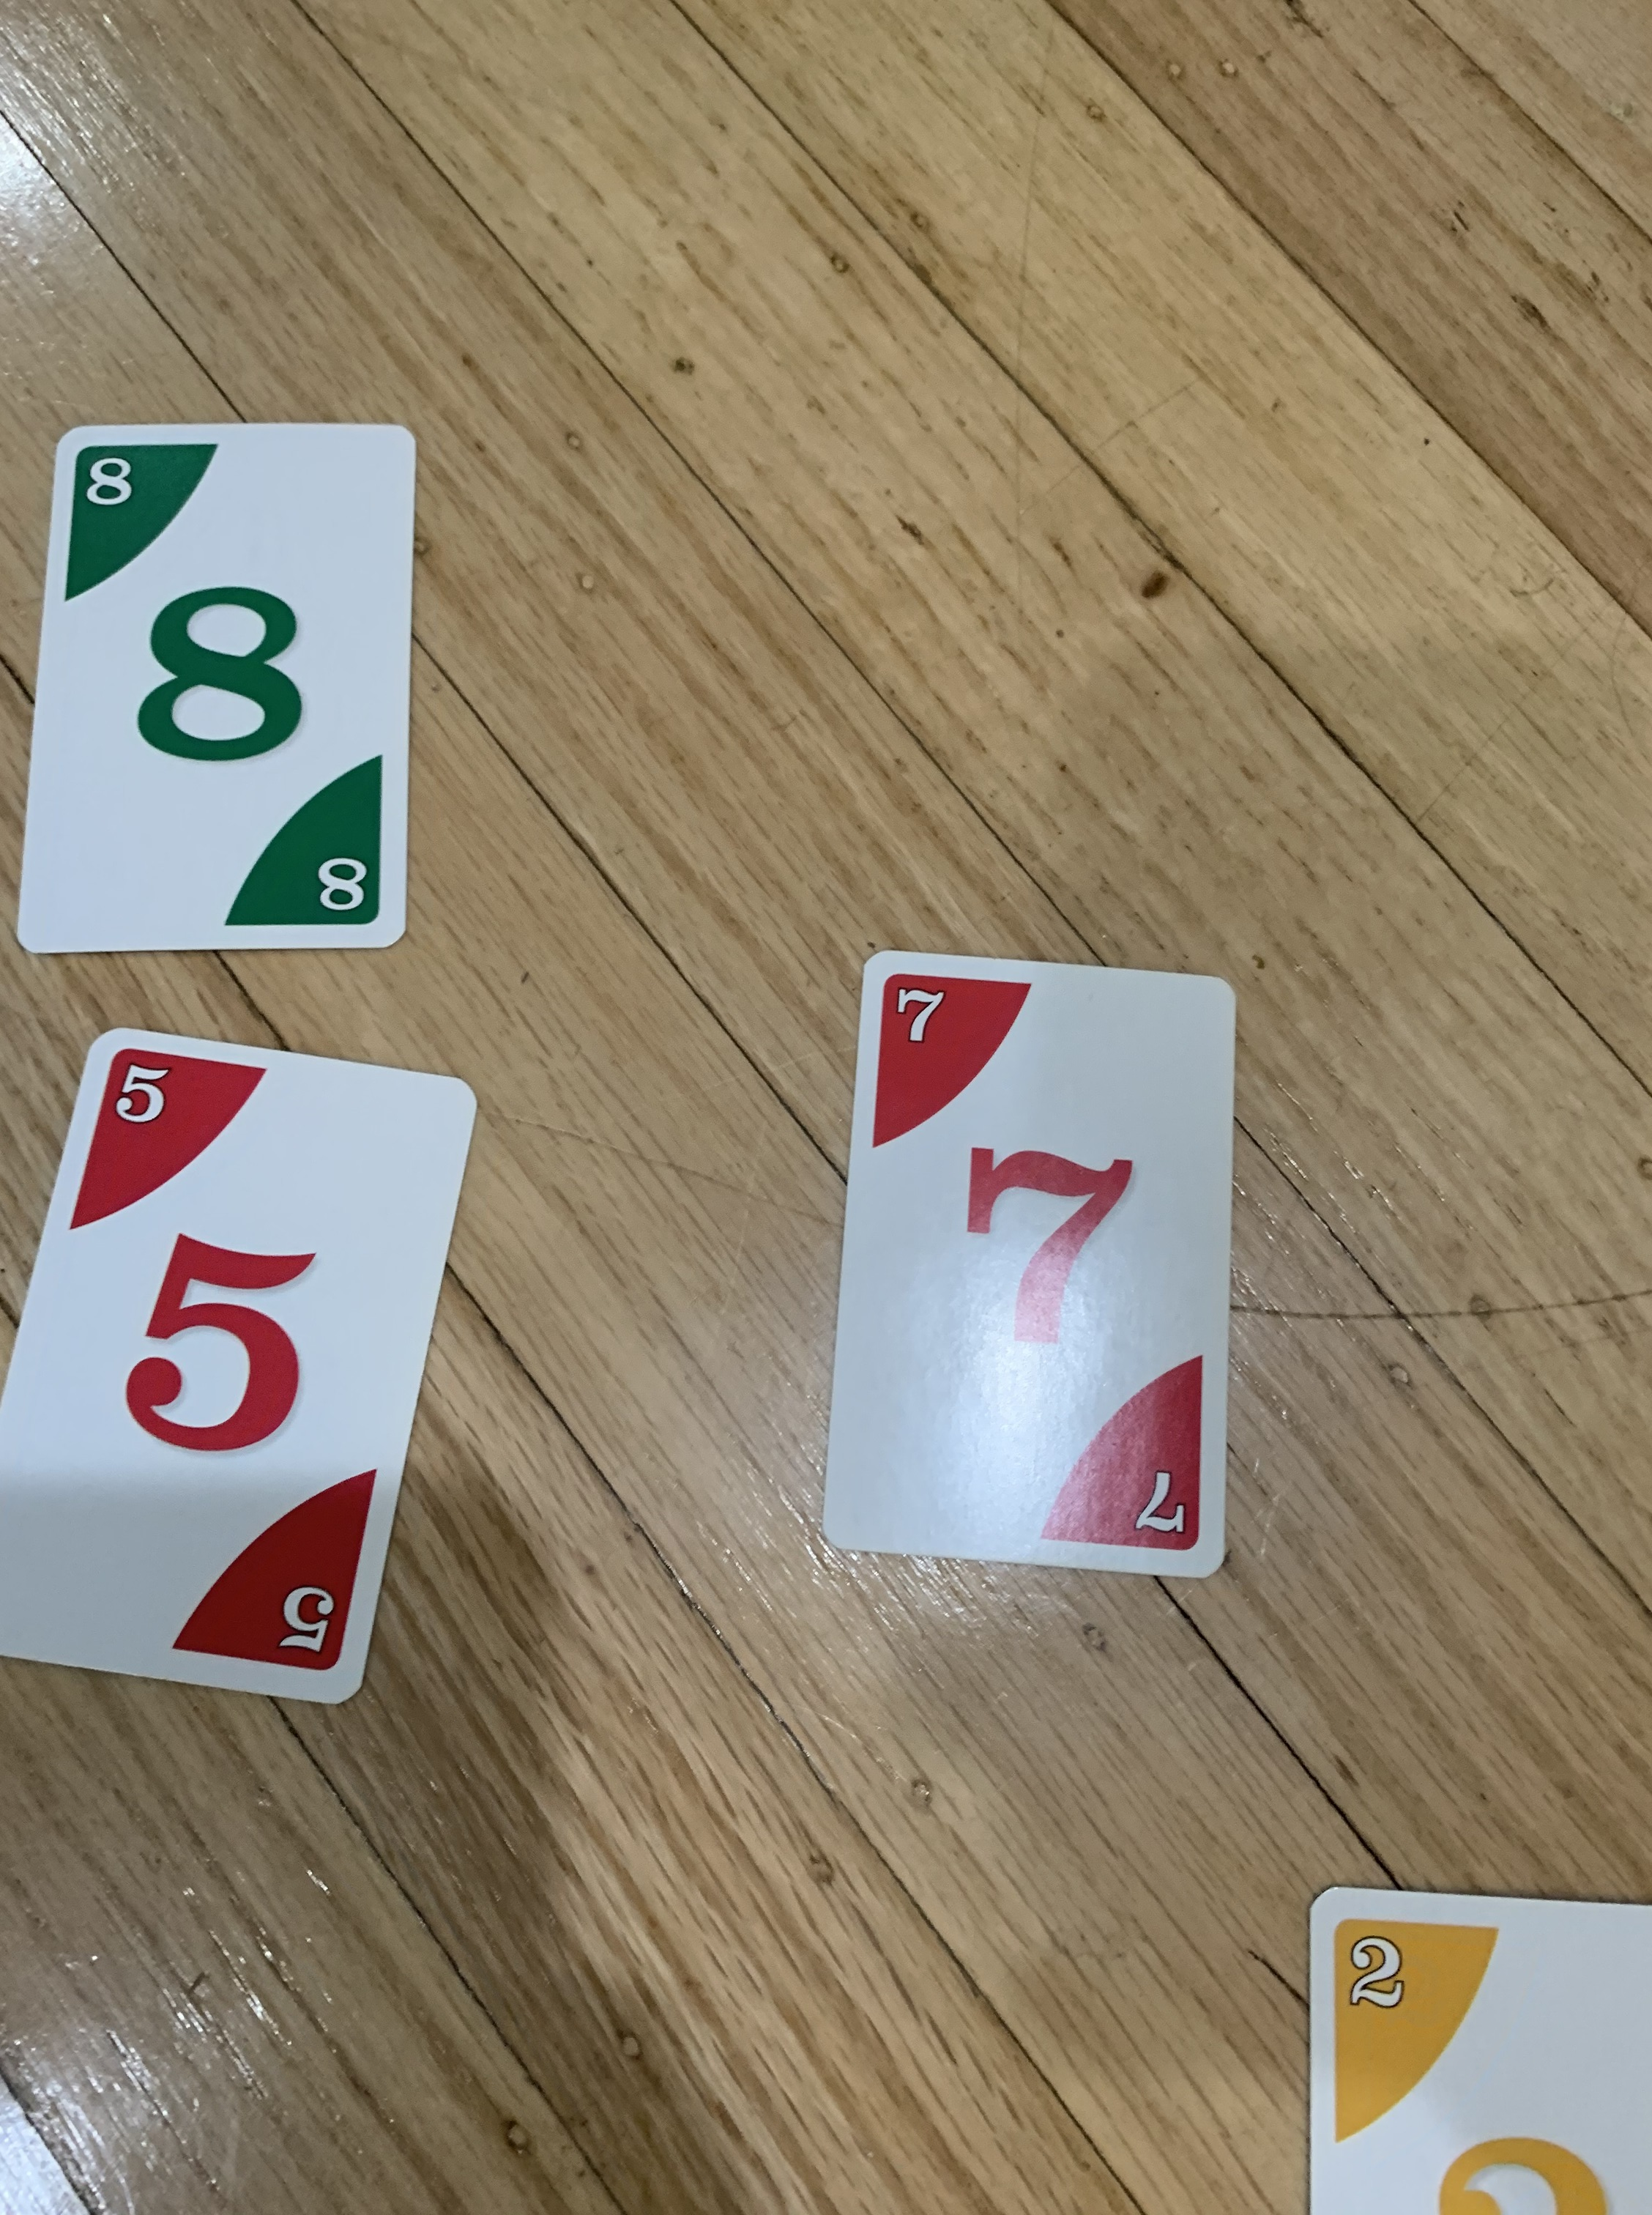eight: (0, 417, 458, 979)
five: (5, 1015, 507, 1724)
seven: (809, 934, 1249, 1595)
